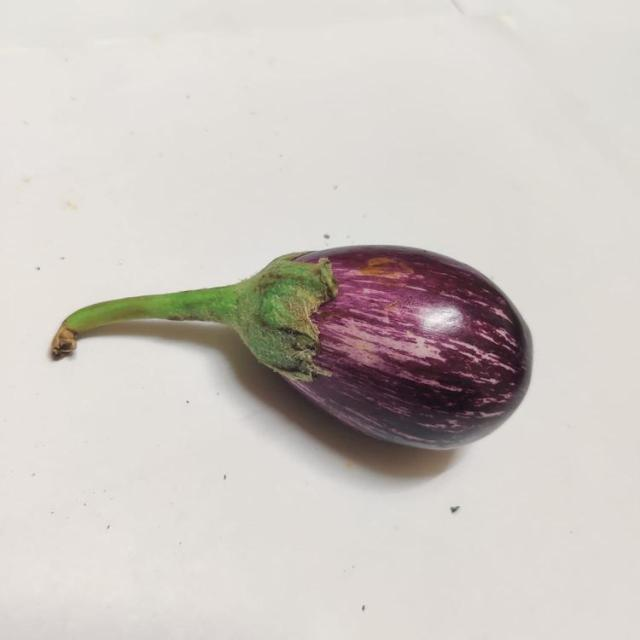Organik: (31, 239, 556, 456)
